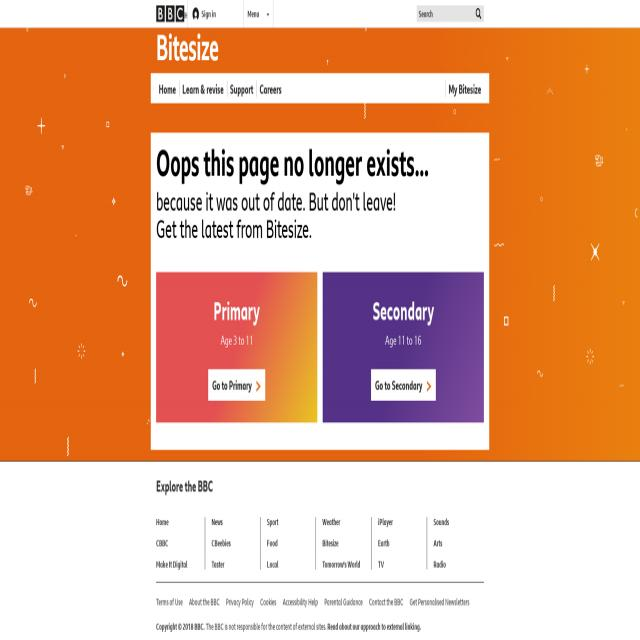button: (156, 28, 218, 70), (371, 370, 436, 400), (208, 369, 265, 400), (187, 0, 223, 27), (243, 0, 272, 27), (156, 5, 184, 22), (473, 5, 484, 22)
field: (417, 5, 473, 22)
